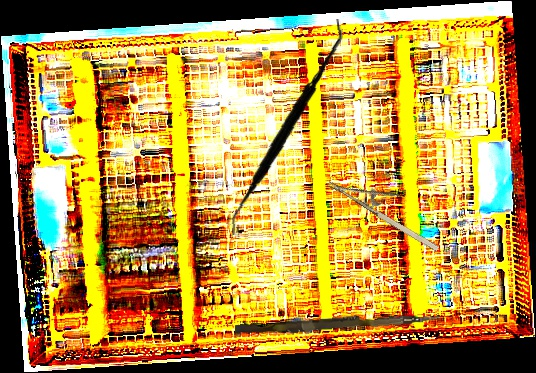Needle Holder: (326, 158, 452, 256)
Pusher: (234, 307, 441, 339)
Spatula Surgical: (218, 18, 353, 236)
